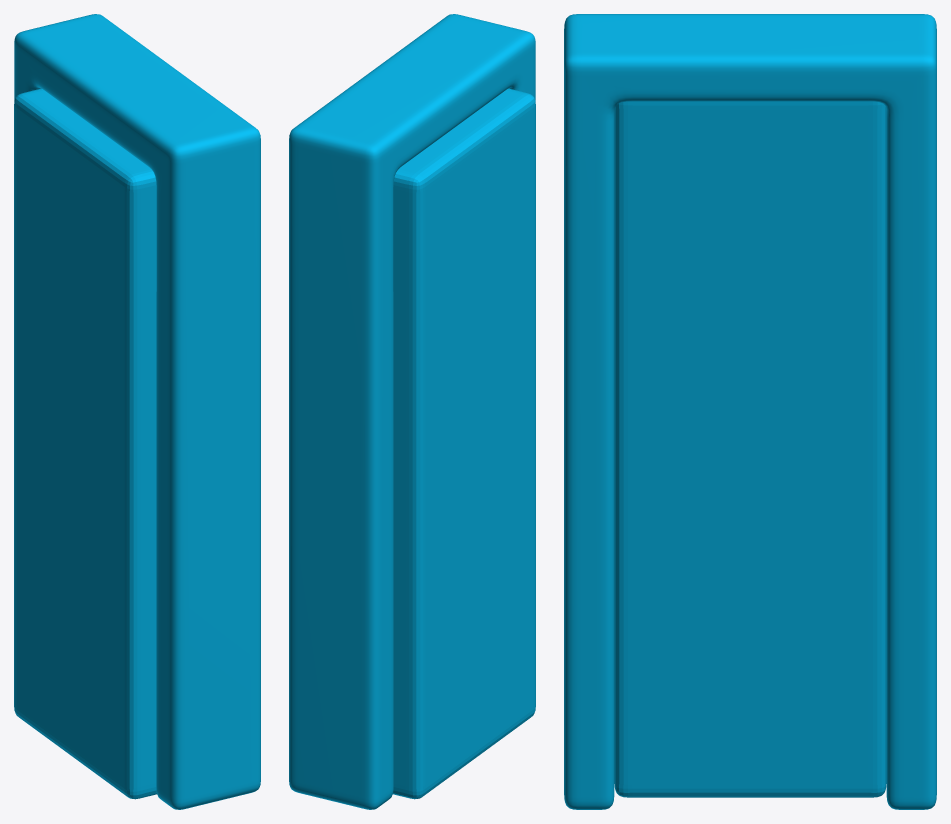
Rendered from SM_Clay_Door_06.fbx.
3 renders of one model, left to right at view 1: azimuth 30°, elevation 25°; view 2: azimuth 150°, elevation 25°; view 3: azimuth 270°, elevation 25°, orthographic. The views are drawn at different scales.
Visible parts, largest first — view 1: SM_Clay_Door_06; view 2: SM_Clay_Door_06; view 3: SM_Clay_Door_06.
Boxes of the visible parts, box(x1,y1,x2,y2) form: SM_Clay_Door_06: box(14, 14, 260, 809); SM_Clay_Door_06: box(289, 14, 535, 809); SM_Clay_Door_06: box(564, 14, 936, 809).
Bounding box in the file's own units: 0.2876 × 1.64 × 0.7333.
